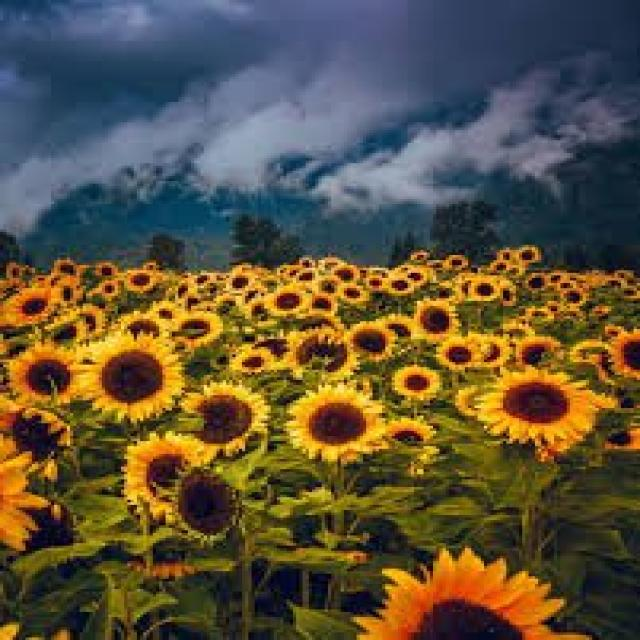sunflower: (350, 546, 592, 638), (471, 365, 599, 451), (80, 332, 184, 421), (284, 382, 386, 462), (121, 428, 207, 520), (178, 380, 271, 454), (0, 430, 48, 551), (6, 339, 83, 403), (0, 398, 72, 463), (175, 466, 241, 534), (284, 324, 356, 377), (0, 285, 59, 324), (410, 297, 462, 341), (607, 327, 640, 380), (393, 365, 439, 400), (175, 313, 222, 346), (351, 322, 391, 359), (382, 416, 434, 444), (514, 334, 560, 364), (232, 346, 274, 376), (472, 332, 508, 366), (267, 285, 304, 315), (436, 341, 474, 369), (73, 305, 109, 334), (570, 340, 610, 364), (121, 315, 160, 339), (384, 315, 414, 341), (606, 425, 640, 447), (310, 294, 338, 316), (468, 278, 498, 298), (227, 272, 253, 294), (152, 302, 178, 322), (340, 286, 369, 303), (516, 245, 539, 265), (495, 287, 518, 307), (128, 272, 153, 290), (386, 276, 414, 292), (333, 265, 359, 282), (527, 274, 548, 290), (563, 291, 585, 305)
